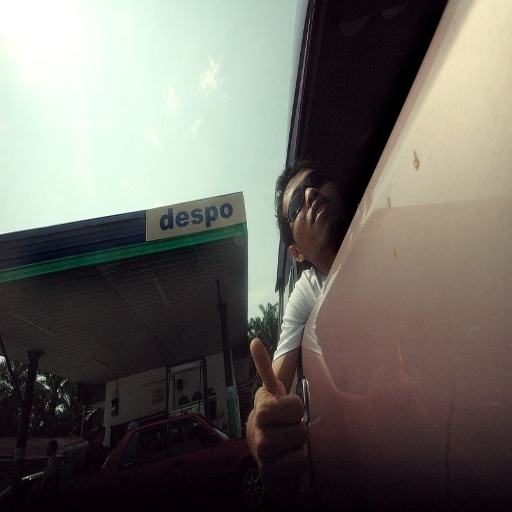hand: (246, 342, 316, 491)
